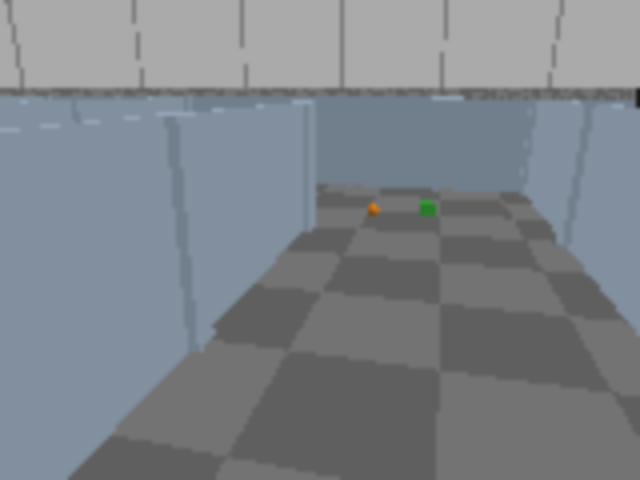puck: (419, 201, 436, 217)
